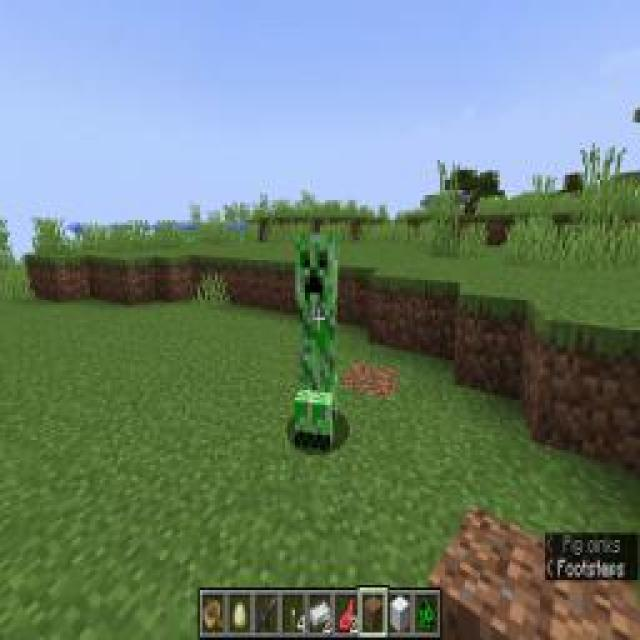Creeper: (291, 225, 341, 457)
